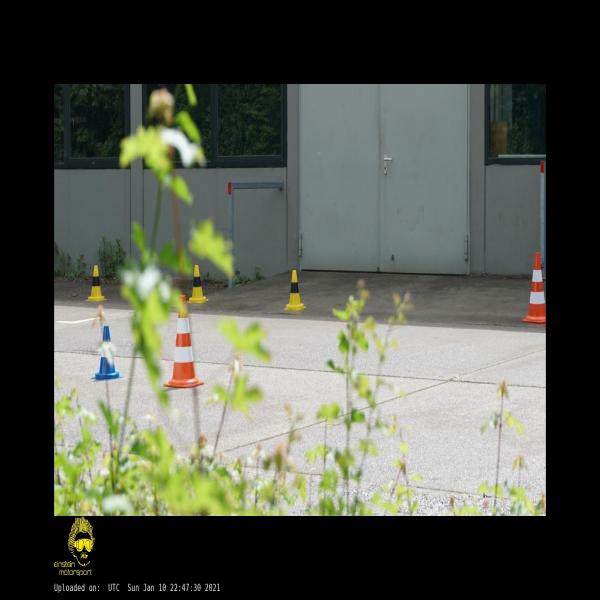blue_cone: (91, 326, 122, 380)
large_orange_cone: (164, 296, 204, 387), (522, 252, 545, 323)
yellow_cone: (284, 270, 306, 311), (188, 265, 209, 303), (85, 265, 107, 301)
